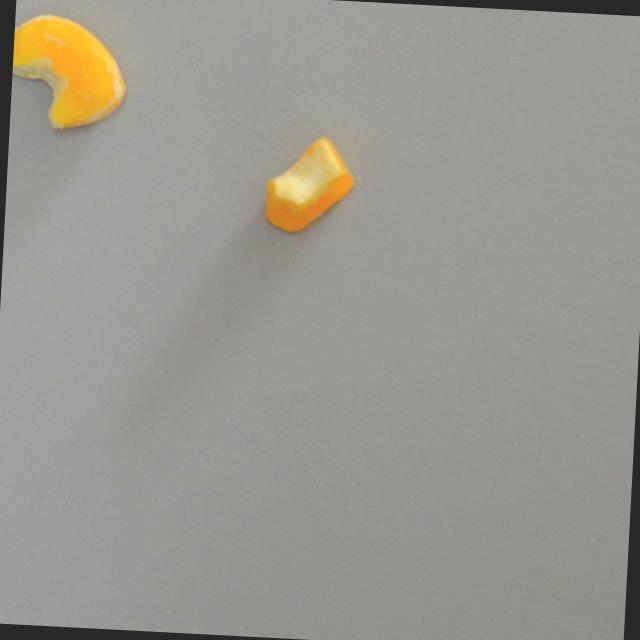no_desgerminado: (258, 130, 358, 239)
pelicula: (9, 6, 135, 139)
